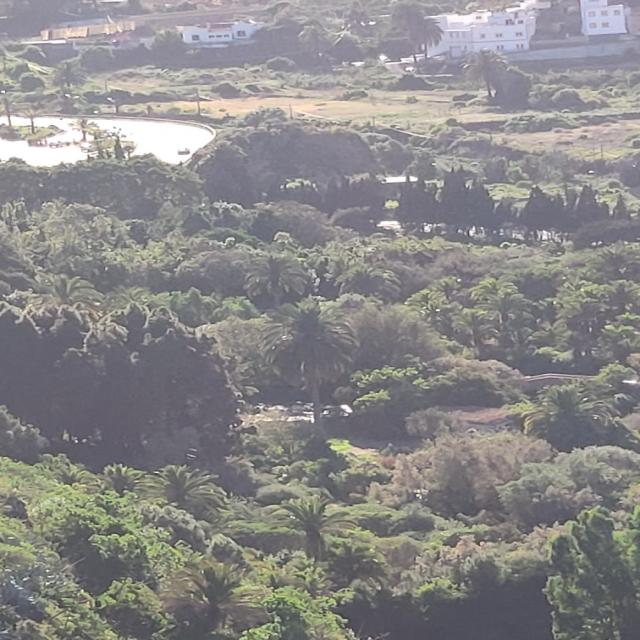Palm-Trees: (260, 301, 360, 435), (162, 564, 264, 636), (148, 464, 228, 525), (275, 499, 351, 559), (244, 252, 312, 302), (479, 294, 530, 351), (460, 49, 508, 98), (410, 17, 446, 60)
